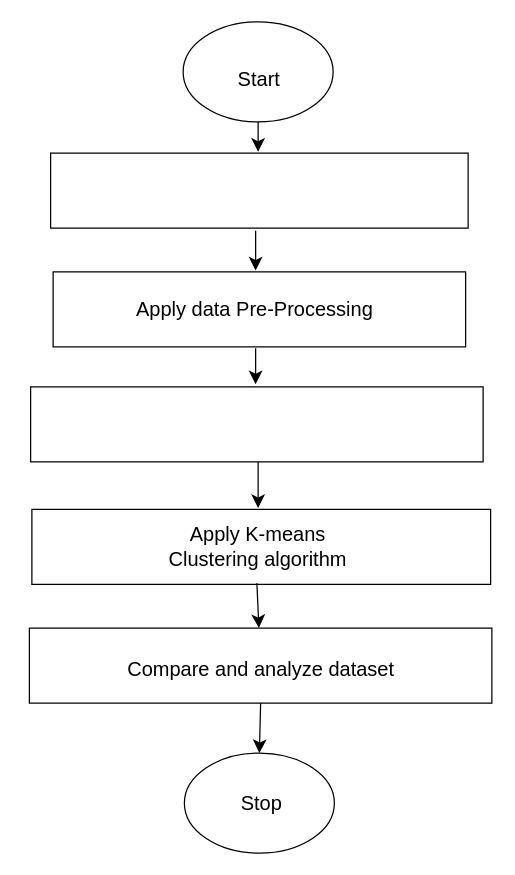
The diagram is 515 pixels wide and 875 high, and some of its shapes have lost their labels. Here are the shapes that lost their labels. From the top down, the box of each, then its label:
(49, 152, 468, 228): Collection of Dataset
(29, 386, 483, 462): Apply Elbow Method to find optimal number of clusters
